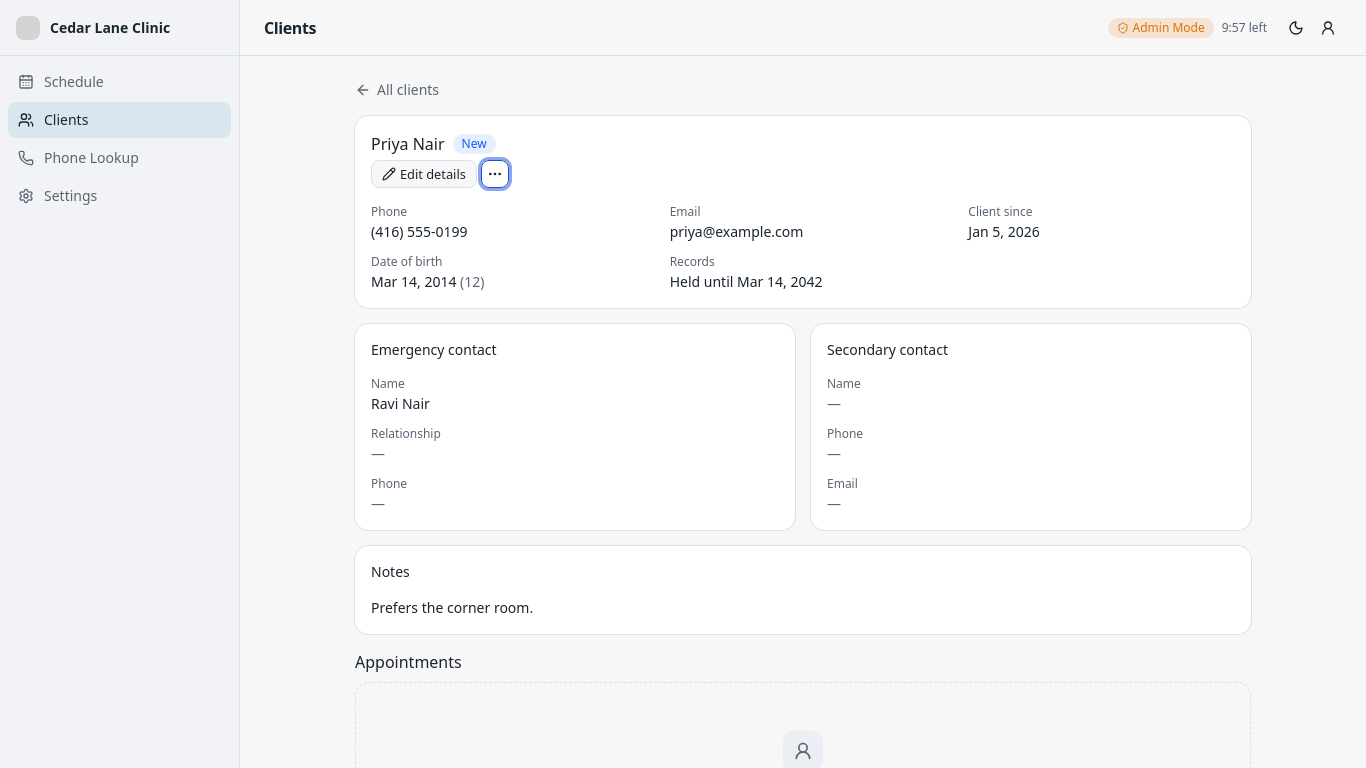
under a hold, the dialog says what is kept, why and until when
The image size is (1366, 768).
Step 1. Press Enter
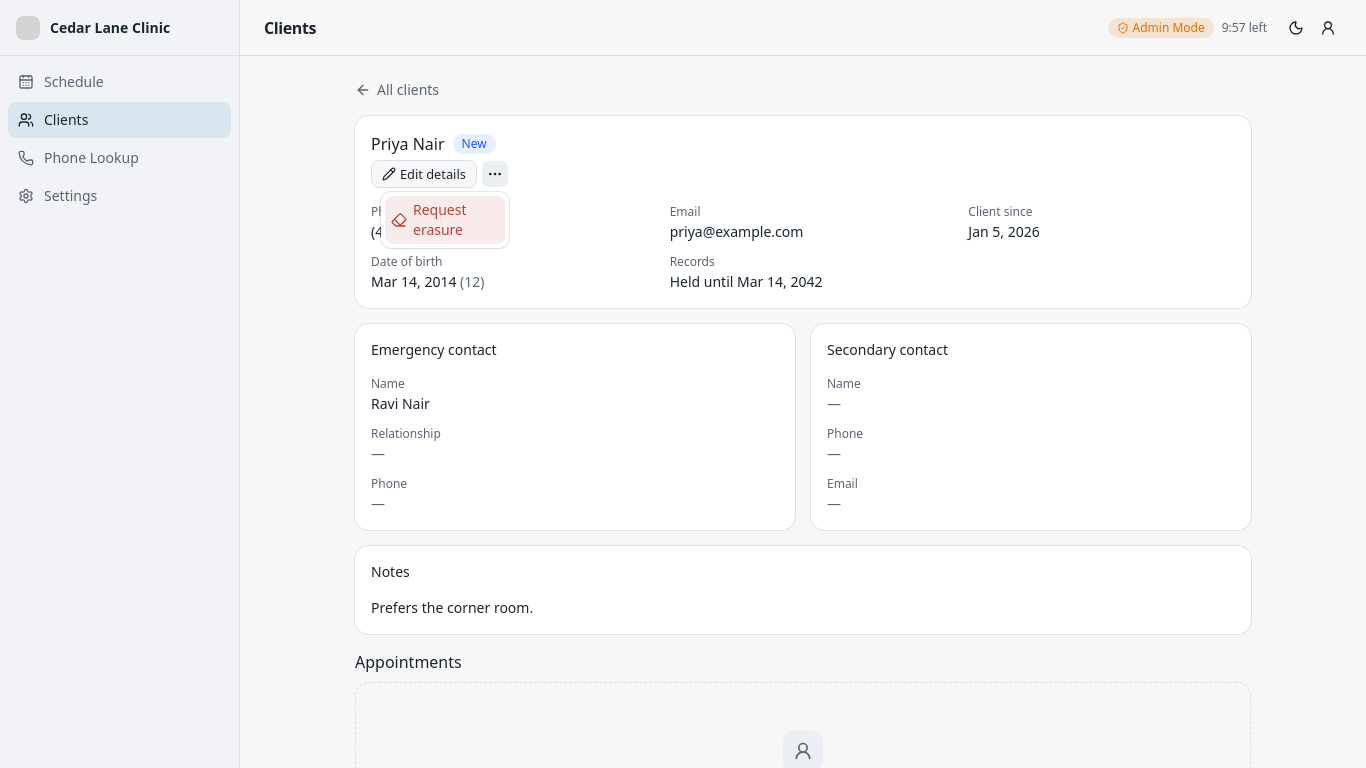
Step 2. Click the menu item "Request erasure" → [445, 220], box [385,196,505,244]
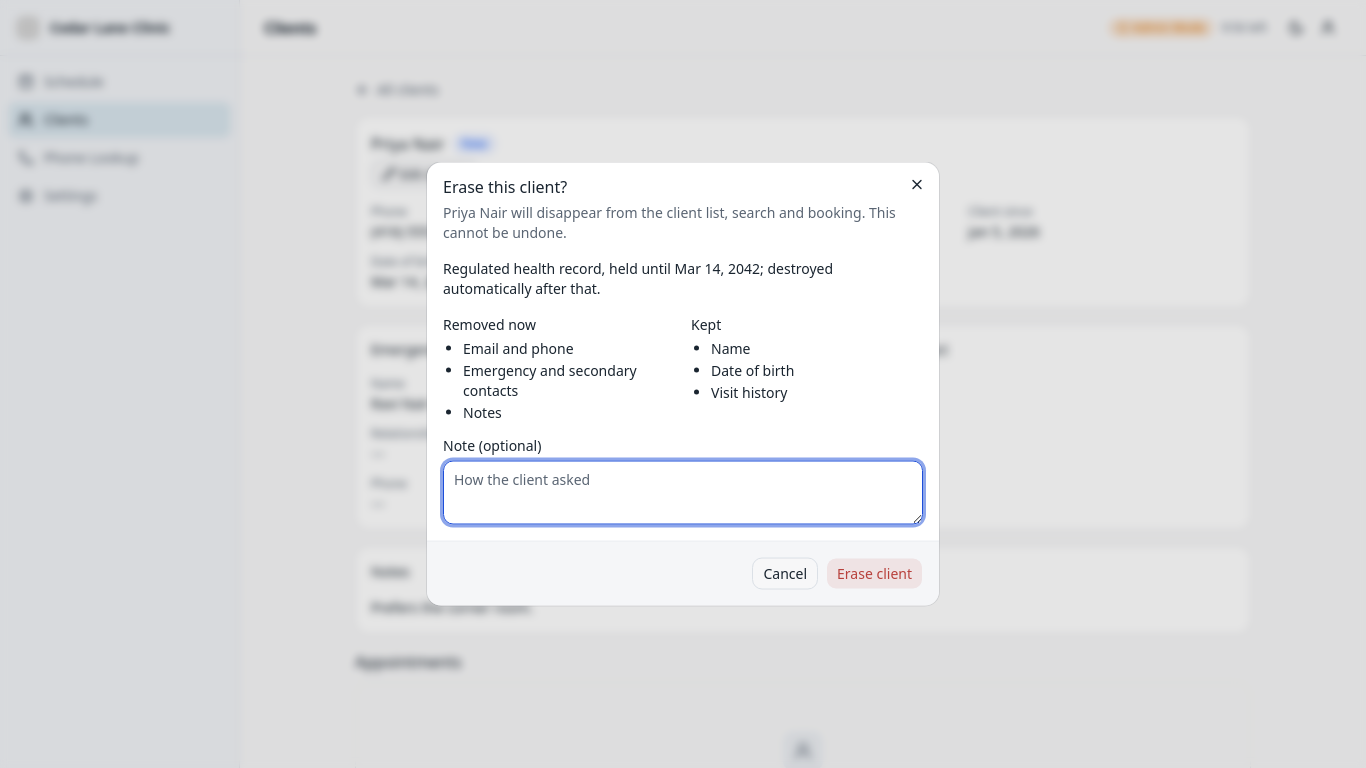
Check: the text "Regulated health record" shows "2042", box [443,258,833,298]
Check: the list item "Email and phone" is shown, box [463,338,574,358]
Check: the list item "Name" is shown, box [711,338,750,358]
